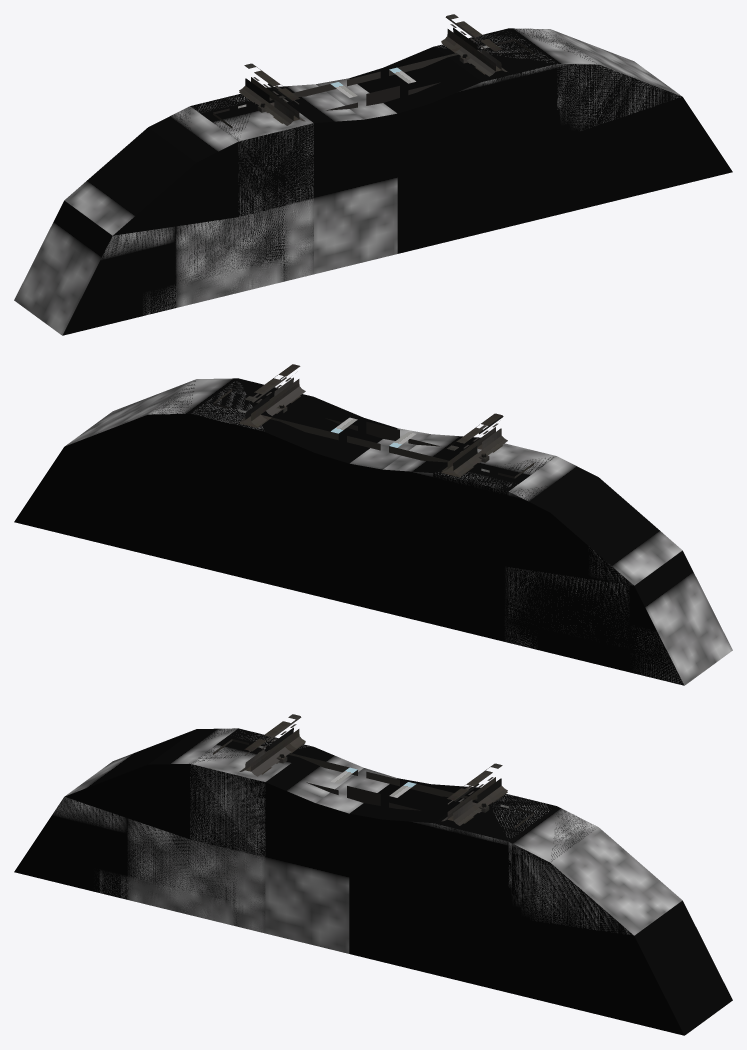
The model's file is drrc_rail_ballast.obj.
3 views of the same model, one above another, from view 1: azimuth 30°, elevation 25°; view 2: azimuth 150°, elevation 25°; view 3: azimuth 330°, elevation 25° (orthographic).
Visible parts, largest first — view 1: cuboid, rail; view 2: cuboid, rail; view 3: cuboid, rail.
Boxes of the visible parts, x1=… form: cuboid: x1=14, y1=28, x2=732, y2=335; rail: x1=239, y1=14, x2=507, y2=125; cuboid: x1=14, y1=378, x2=732, y2=685; rail: x1=239, y1=364, x2=507, y2=477; cuboid: x1=14, y1=728, x2=732, y2=1035; rail: x1=239, y1=714, x2=507, y2=825.
Size of the model in its own units: 5 by 1.28 by 0.625.
2 materials, 2 textured.
